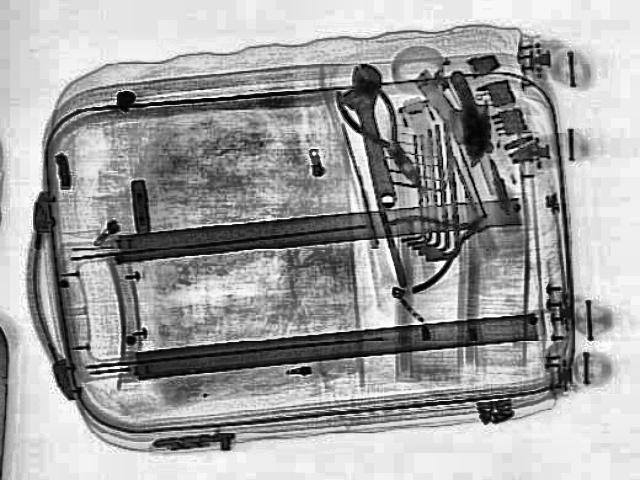Pliers: (360, 189, 518, 293), (325, 76, 443, 192)
Wrench: (336, 59, 410, 209)
